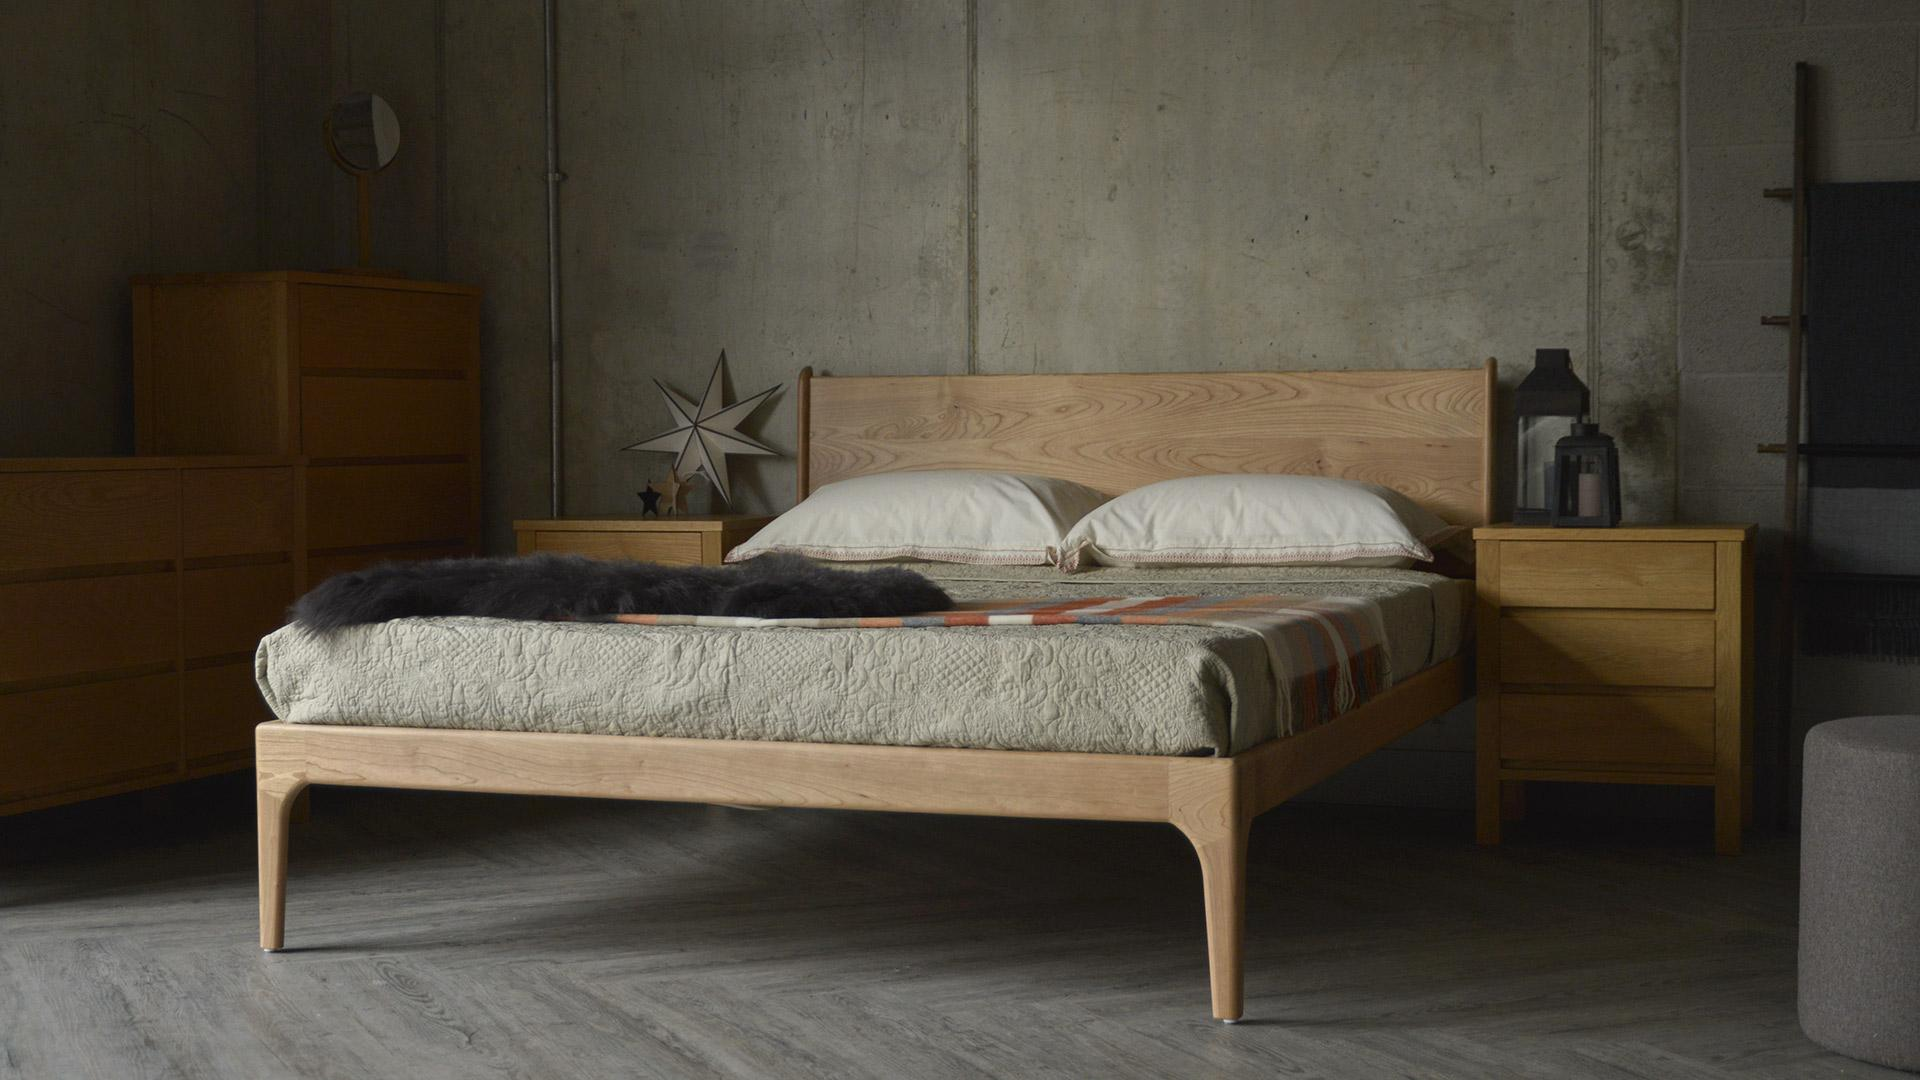bed: (520, 380, 1473, 968)
